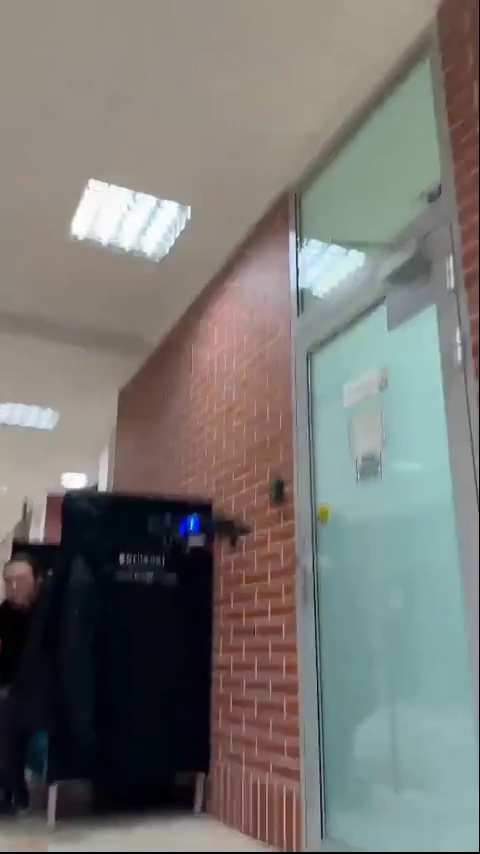drone: (153, 512, 249, 556)
no vest: (0, 548, 77, 824)
